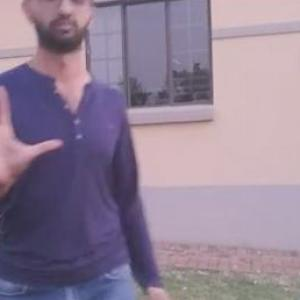follow_hand: (0, 81, 70, 205)
